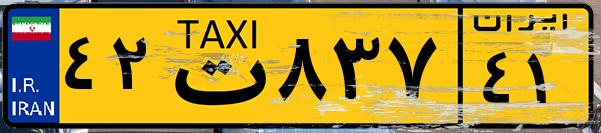1: (525, 38, 570, 115)
2: (110, 28, 158, 98)
3: (330, 28, 385, 110)
4: (57, 26, 110, 100), (475, 38, 525, 113)
7: (385, 28, 445, 110)
8: (270, 28, 330, 110)
ت: (158, 12, 270, 120)
